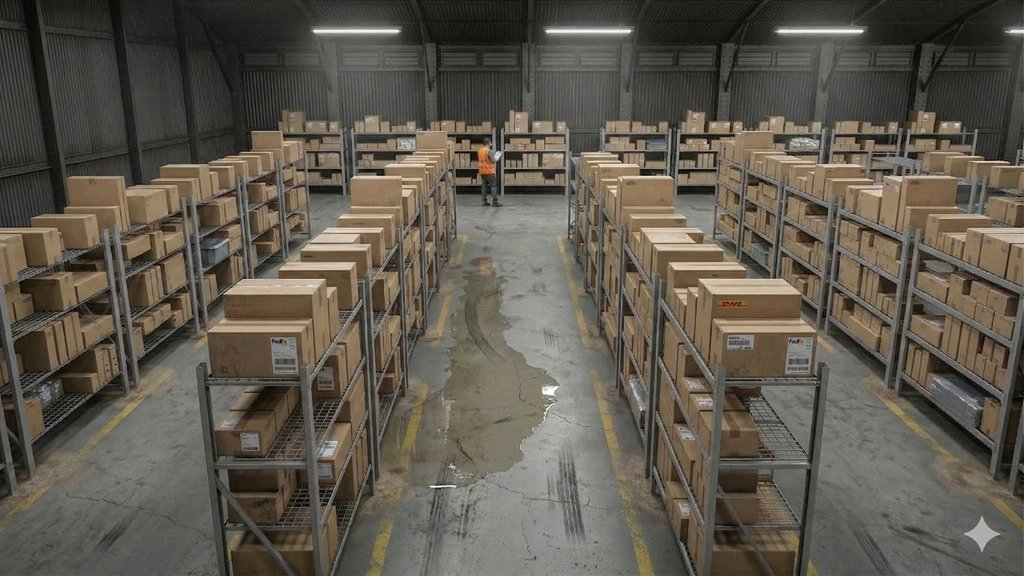empty_shelf: (744, 388, 826, 471), (747, 472, 804, 530), (285, 391, 329, 461), (868, 127, 922, 177), (291, 479, 330, 526), (42, 393, 110, 417)
person: (468, 134, 514, 213)
safety_vest: (477, 146, 499, 180)
spill: (414, 255, 567, 525)
